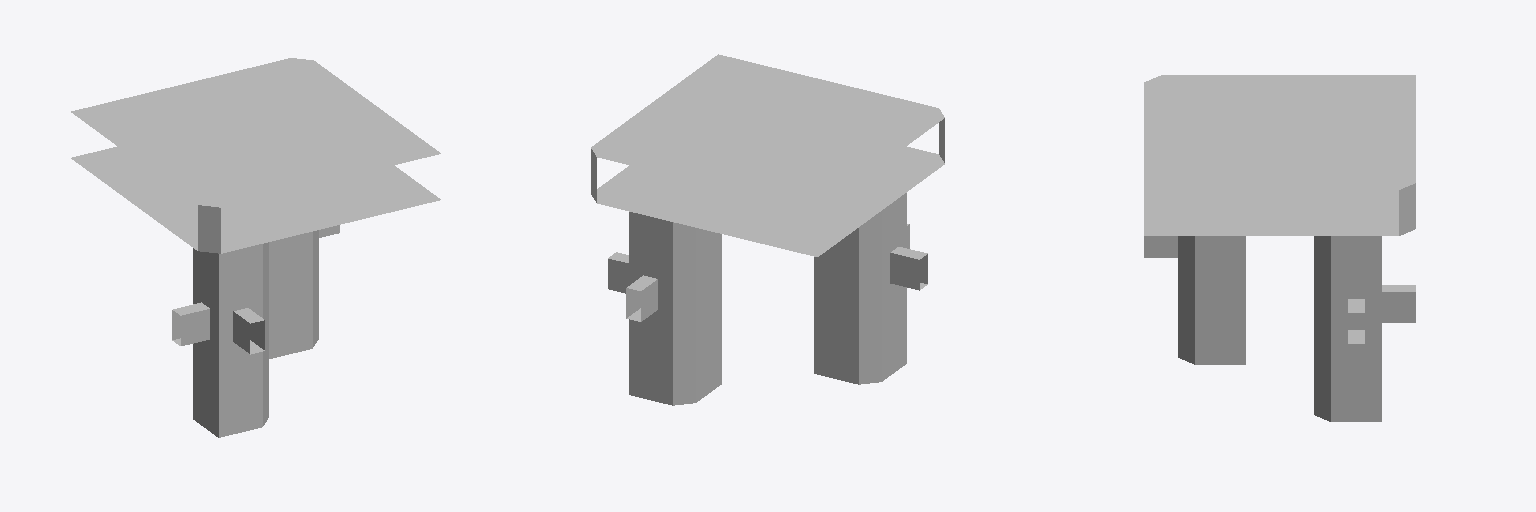
The model's file is table_diagonal_intersection.obj.
The picture shows the model from 3 angles: view 1: azimuth 30°, elevation 25°; view 2: azimuth 150°, elevation 25°; view 3: azimuth 270°, elevation 25°; orthographic projection.
Visible parts, largest first — view 1: DIAGONAL_INTERSECTION_CORNER_TABLE_TOP_Cube.022, DIAGONAL_INTERSECTION_CORNER_TABLE.001_Cube.021; view 2: DIAGONAL_INTERSECTION_CORNER_TABLE_TOP_Cube.022, DIAGONAL_INTERSECTION_CORNER_TABLE.001_Cube.021; view 3: DIAGONAL_INTERSECTION_CORNER_TABLE_TOP_Cube.022, DIAGONAL_INTERSECTION_CORNER_TABLE.001_Cube.021.
Part boxes in pixels (x1,y1,x2,y2): DIAGONAL_INTERSECTION_CORNER_TABLE_TOP_Cube.022: (71,58,440,253); DIAGONAL_INTERSECTION_CORNER_TABLE.001_Cube.021: (172,225,339,437); DIAGONAL_INTERSECTION_CORNER_TABLE_TOP_Cube.022: (591,54,944,256); DIAGONAL_INTERSECTION_CORNER_TABLE.001_Cube.021: (608,193,927,405); DIAGONAL_INTERSECTION_CORNER_TABLE_TOP_Cube.022: (1144,75,1415,235); DIAGONAL_INTERSECTION_CORNER_TABLE.001_Cube.021: (1144,236,1415,421).
Bounding box in the file's own units: 1 × 1 × 1.